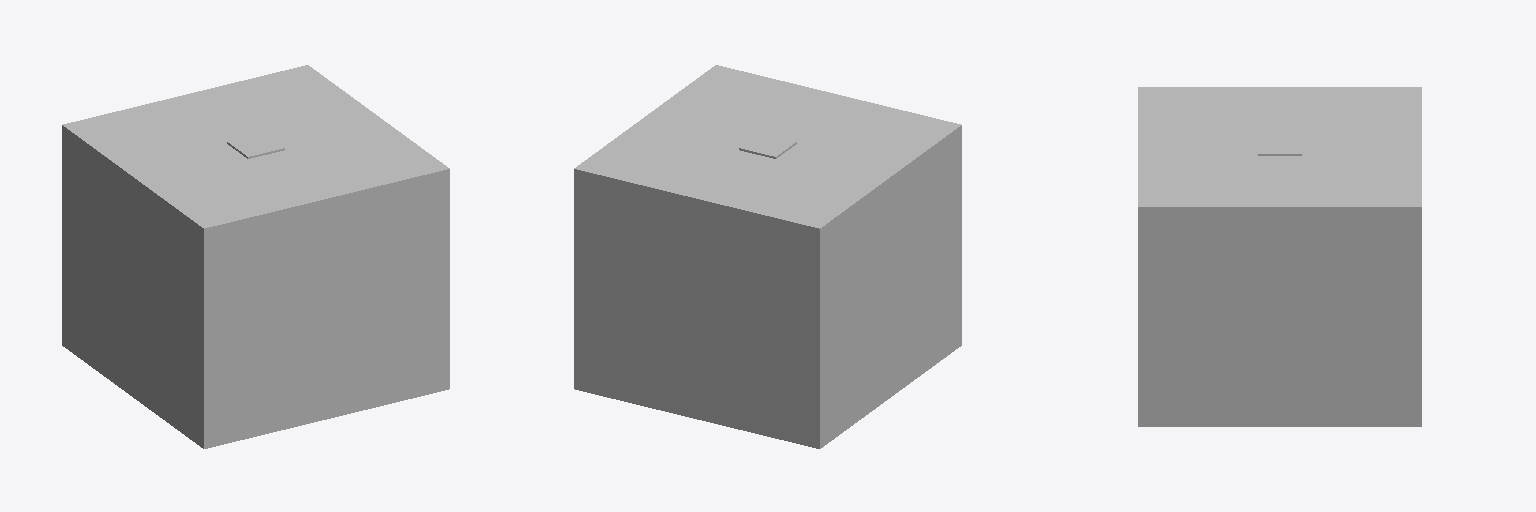
Rendered from TV screen.obj.
3 views of the same model, side by side, from view 1: azimuth 30°, elevation 25°; view 2: azimuth 150°, elevation 25°; view 3: azimuth 270°, elevation 25° (orthographic).
Parts seen in each view (by area): view 1: Cube, Cube.001; view 2: Cube, Cube.001; view 3: Cube, Cube.001.
Part boxes in pixels (x1,y1,x2,y2): Cube: (62, 65, 449, 448); Cube.001: (227, 132, 284, 158); Cube: (574, 65, 961, 448); Cube.001: (739, 132, 796, 158); Cube: (1138, 87, 1421, 426); Cube.001: (1258, 136, 1301, 155).
Bounding box in the file's own units: 59.8 × 51.73 × 59.8.